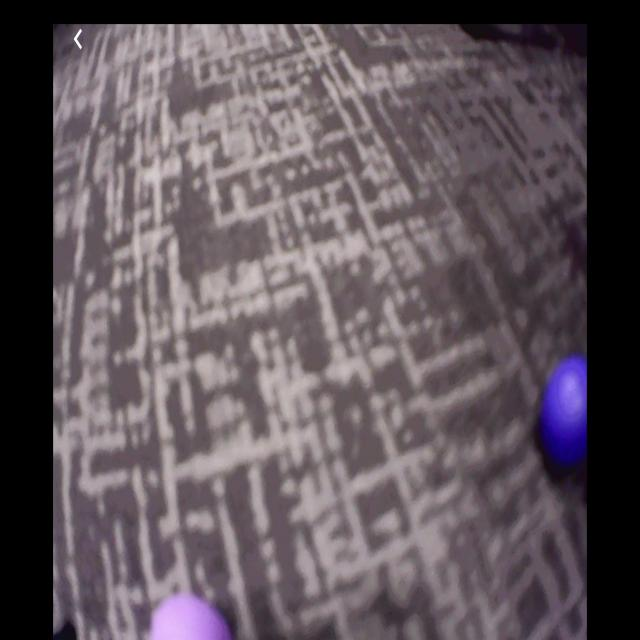ball: (539, 358, 587, 469), (149, 594, 230, 640)
